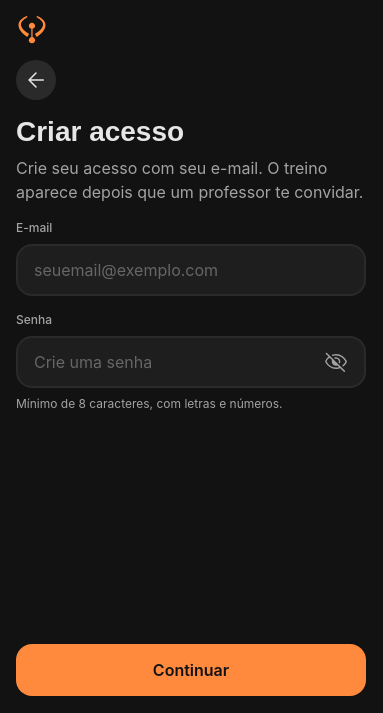
Criar acesso (regras 47, 78 e 89) › senha fraca ou e-mail inválido: erro no campo, sem criar a conta
The image size is (383, 713).
Step 1. Type "ana@" into the field labelled "E-mail" → x=191, y=270, box [34, 246, 348, 294]
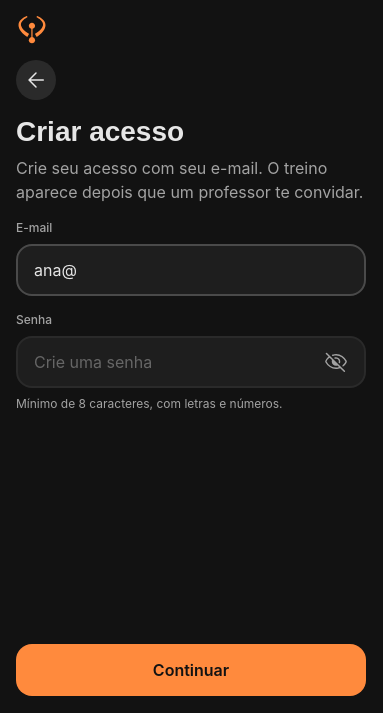
Step 2. Type "abcdefgh" into the password field labelled "Senha" → x=169, y=362, box [34, 338, 304, 386]
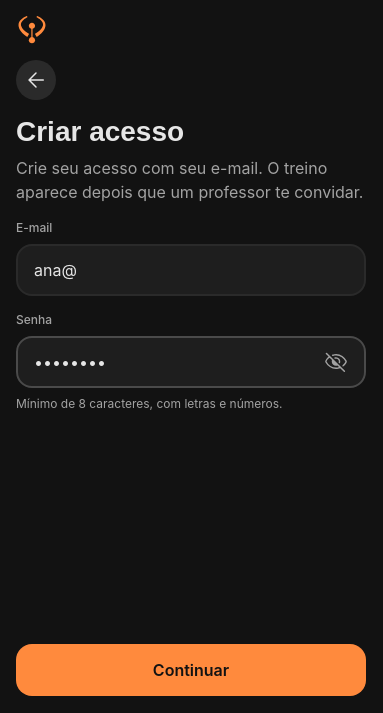
Step 3. Click the button "Continuar" → x=191, y=670, box [16, 644, 366, 696]
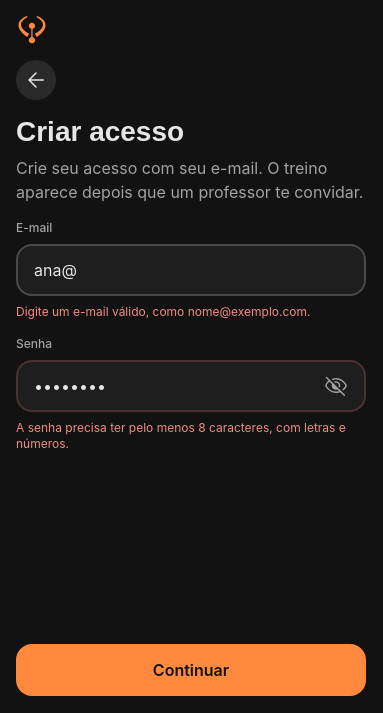
Result: the text "Digite um e-mail válido, como nome@exemplo.com." is shown at [16, 304, 310, 319]
Result: the text "A senha precisa ter pelo menos 8 caracteres, com letras e números." is shown at [16, 420, 366, 452]
